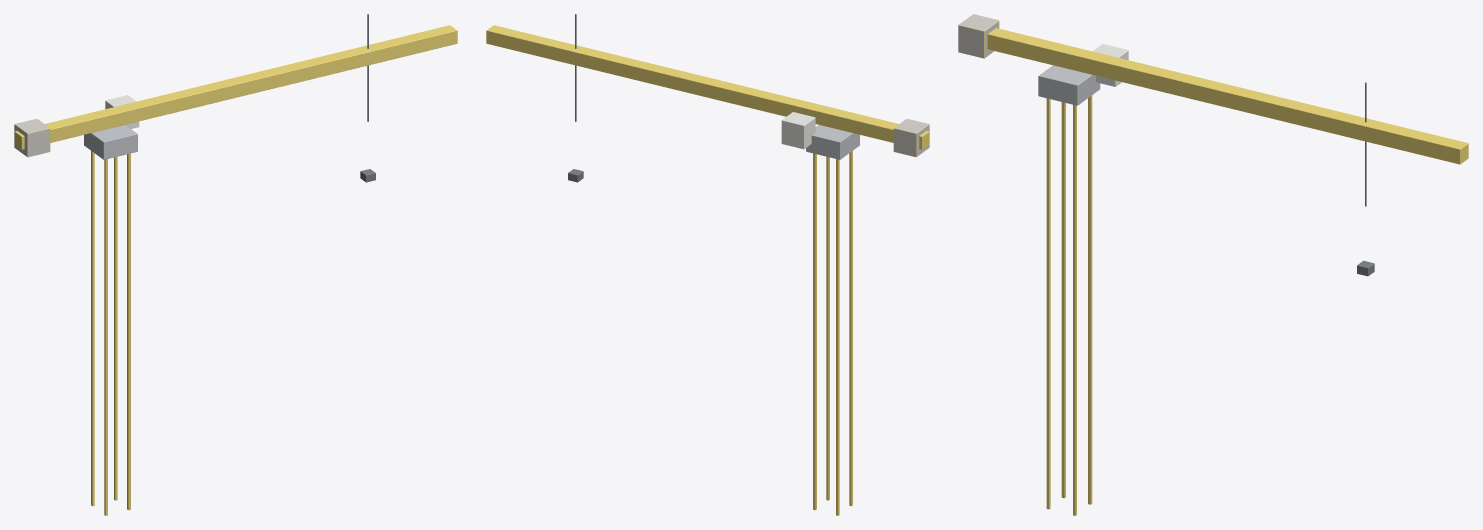
The picture shows the model from 3 angles, left to right: view 1: azimuth 30°, elevation 25°; view 2: azimuth 150°, elevation 25°; view 3: azimuth 330°, elevation 25°; orthographic projection. The views are drawn at different scales.
Visible parts, largest first — view 1: 吊臂, 塔身, 平衡臂, 回转台; view 2: 吊臂, 塔身, 平衡臂, 回转台, 驾驶室.008; view 3: 吊臂, 塔身, 平衡臂, 回转台.
Part boxes in pixels (bbox=[...]): 吊臂: bbox=[93, 25, 457, 130]; 塔身: bbox=[91, 151, 130, 515]; 平衡臂: bbox=[14, 110, 106, 157]; 回转台: bbox=[84, 125, 137, 159]; 吊臂: bbox=[486, 25, 850, 130]; 塔身: bbox=[813, 151, 852, 515]; 平衡臂: bbox=[838, 112, 929, 157]; 回转台: bbox=[806, 125, 859, 159]; 驾驶室.008: bbox=[781, 112, 815, 149]; 吊臂: bbox=[1049, 43, 1468, 164]; 塔身: bbox=[1046, 95, 1092, 515]; 平衡臂: bbox=[958, 14, 1062, 65]; 回转台: bbox=[1038, 65, 1100, 105].
Size of the model in its own units: 3050 by 2880 by 330.
